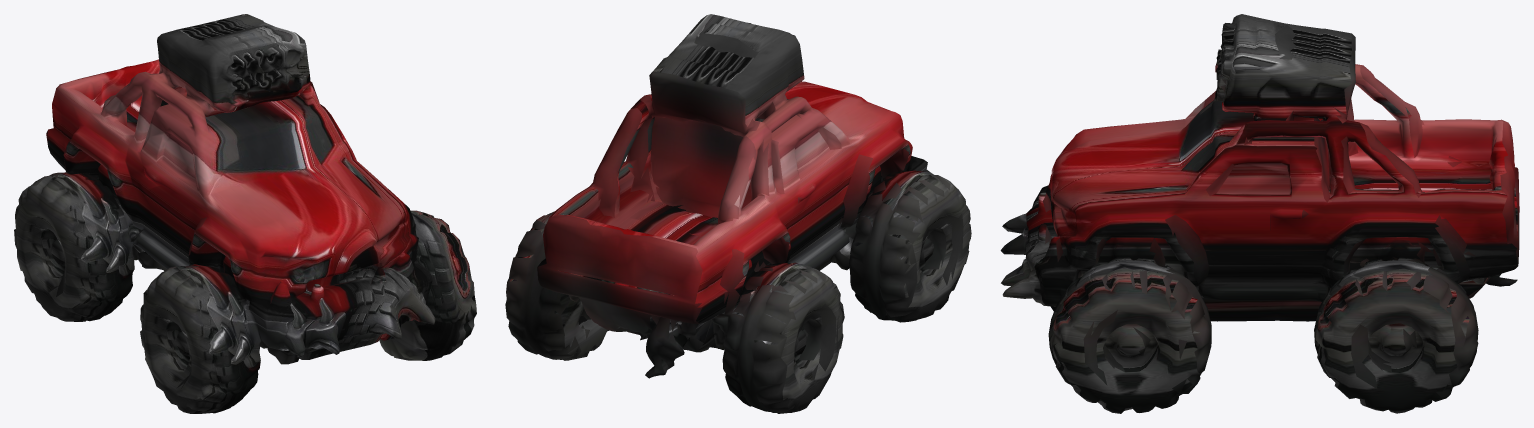
File: monster_truck.glb
The picture shows the model from 3 angles, left to right: view 1: azimuth 30°, elevation 25°; view 2: azimuth 150°, elevation 25°; view 3: azimuth 270°, elevation 25°; orthographic projection. The views are drawn at different scales.
Visible parts, largest first — view 1: monster_truck; view 2: monster_truck; view 3: monster_truck.
Part boxes in pixels (left/top/right/bottom): monster_truck: left=14, top=14, right=476, bottom=413; monster_truck: left=505, top=14, right=971, bottom=413; monster_truck: left=1000, top=14, right=1519, bottom=413.
Bounding box in the file's own units: 8.58 × 8.84 × 13.
Materials: 1 (1 with a texture image).
